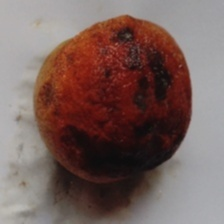guava: (53, 19, 216, 165)
